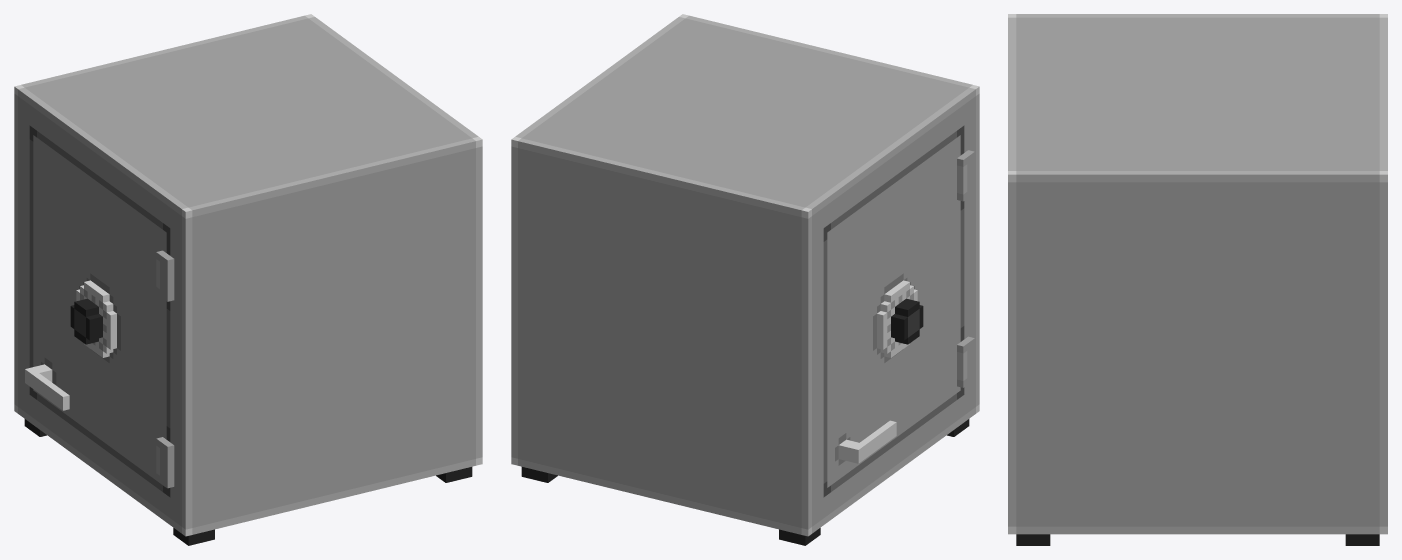
Rendered from SafeBox.obj.
3 renders of one model, left to right at view 1: azimuth 30°, elevation 25°; view 2: azimuth 150°, elevation 25°; view 3: azimuth 270°, elevation 25°, orthographic. The views are drawn at different scales.
Bounding box in the file's own units: 48 × 49 × 45.
1 material, 1 textured.
